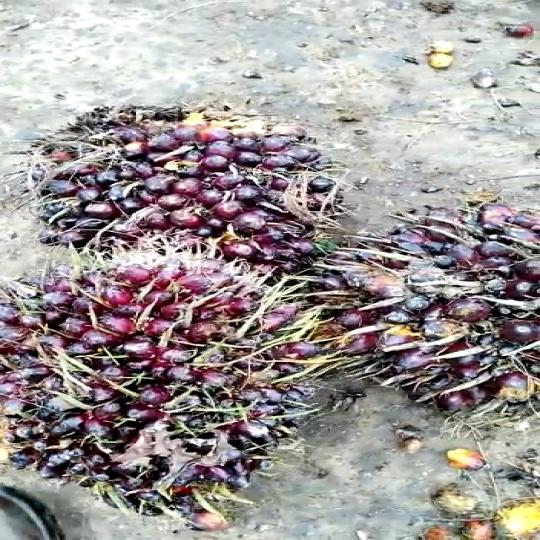kurang masak: (0, 240, 322, 538), (38, 86, 340, 290), (291, 196, 540, 439)
